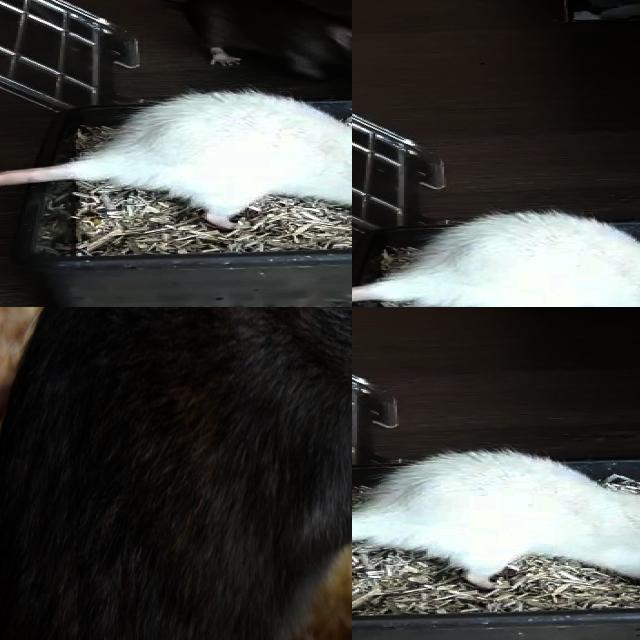rat: (0, 307, 352, 640), (357, 444, 640, 596), (98, 93, 352, 227), (397, 212, 640, 307), (185, 0, 352, 92)
